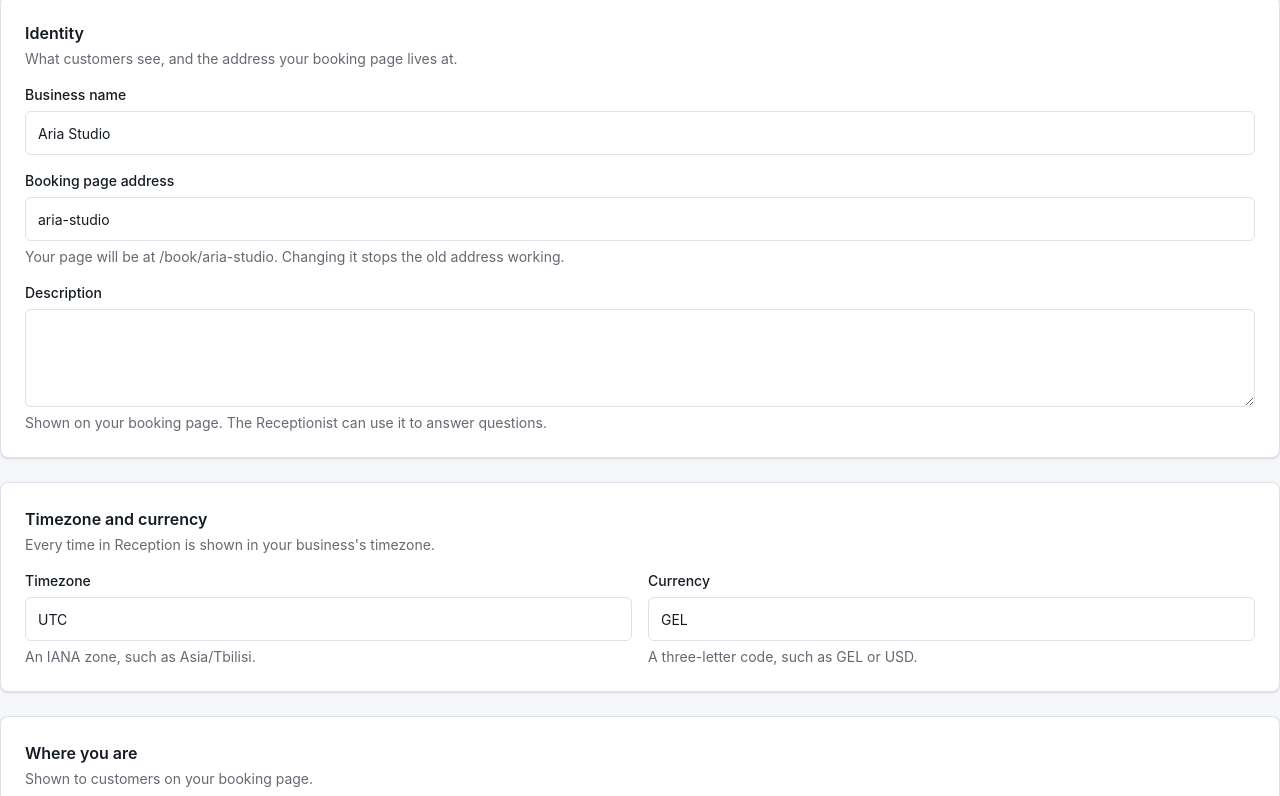
Test: ProfileForm, refused › places SLUG_TAKEN on the address field although it names none
Replace the text in the field labelled "Business name" with "Aria Salon" at (640, 133), box [25, 111, 1255, 155]
(page scrolled)
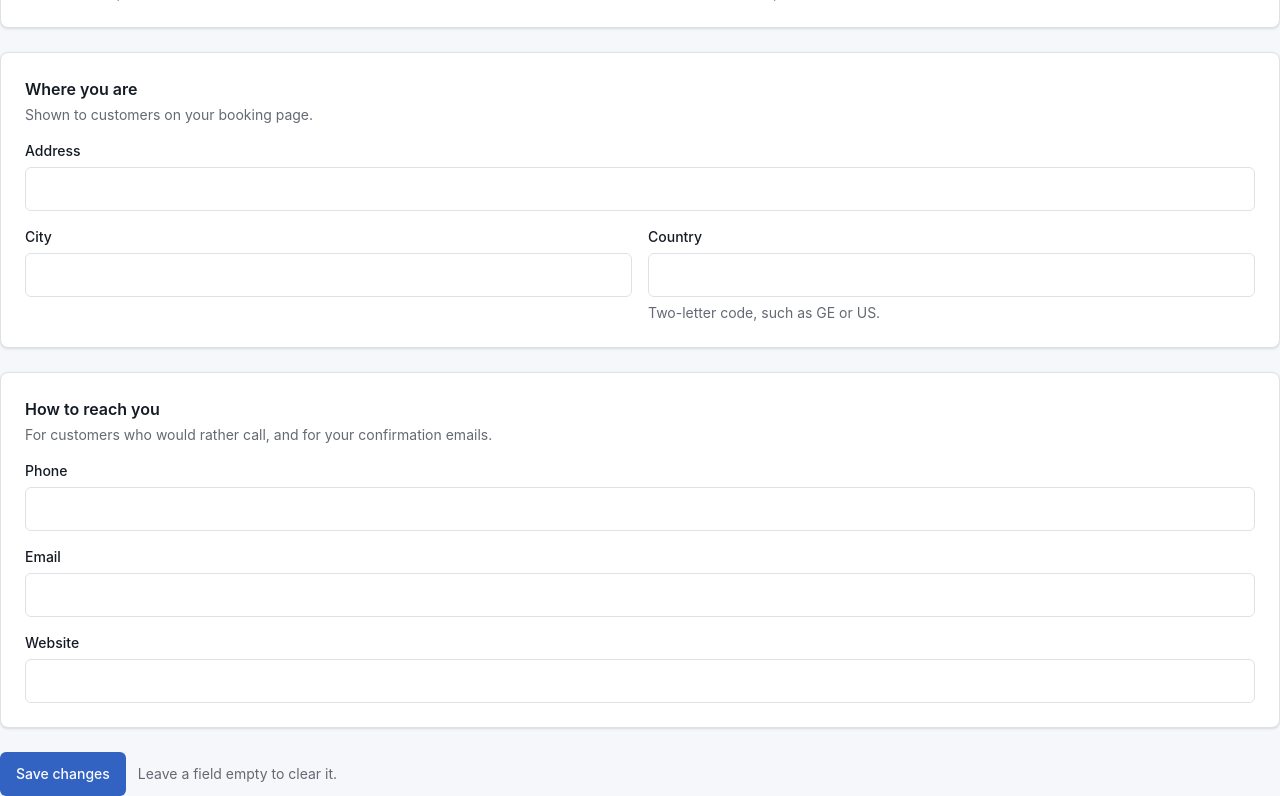
Click the button "Save changes" at (63, 774), box [0, 752, 126, 795]
(page scrolled)
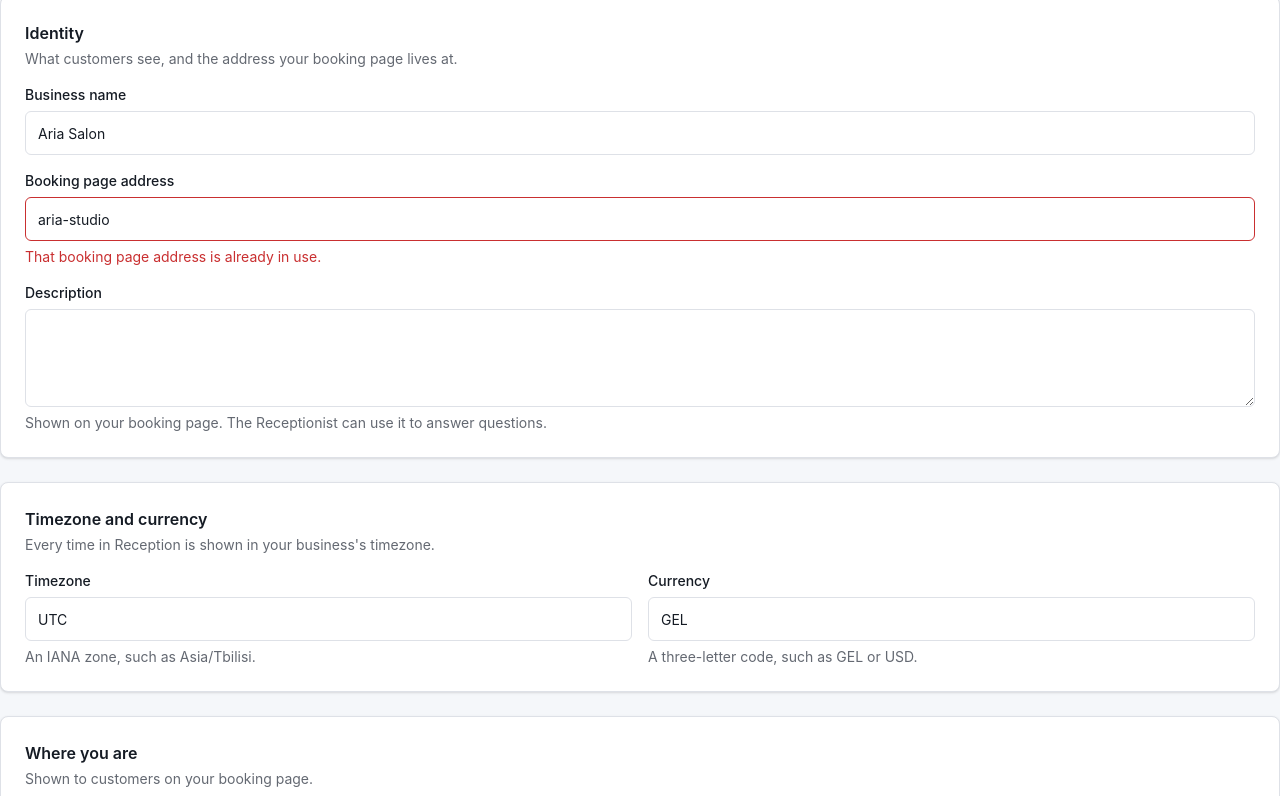
Expected: the text "That booking page address is already in use." is shown, [25, 248, 321, 265]
